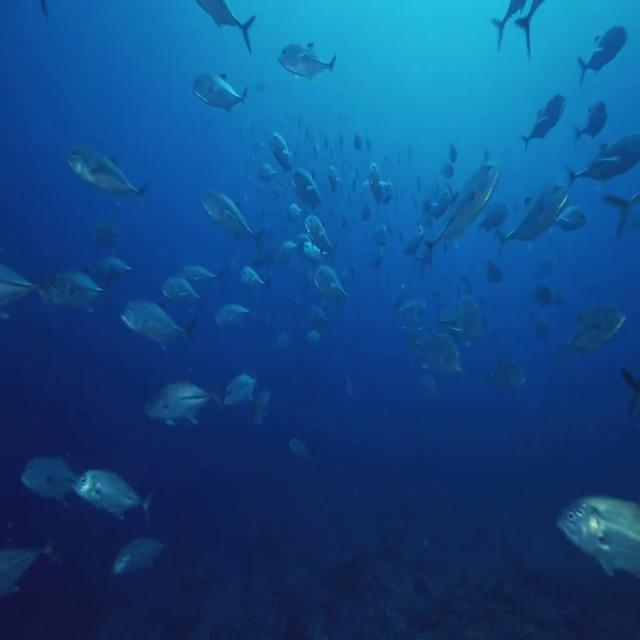fish: (420, 160, 503, 266), (199, 188, 266, 252), (68, 144, 146, 197), (72, 468, 154, 518), (144, 379, 222, 431), (120, 298, 194, 342), (276, 36, 338, 79), (193, 68, 250, 114), (213, 304, 253, 333)
